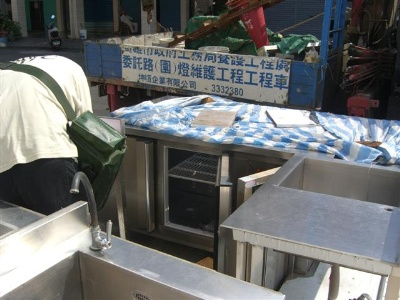bucket: (79, 29, 88, 41)
plastic_bag: (121, 96, 400, 163)
